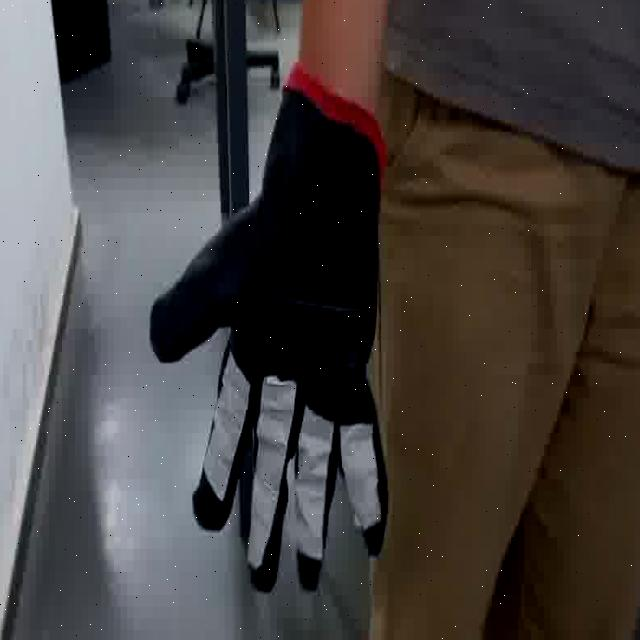Gloves: (148, 65, 390, 594)
